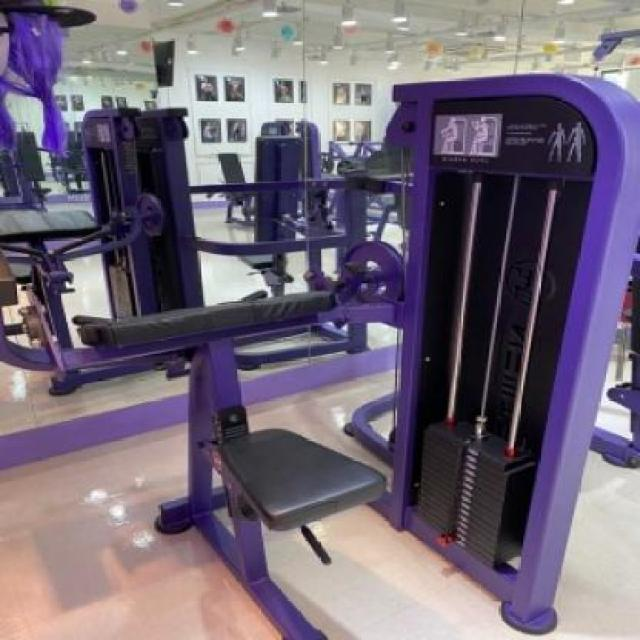arm curl machine: (73, 287, 629, 640)
